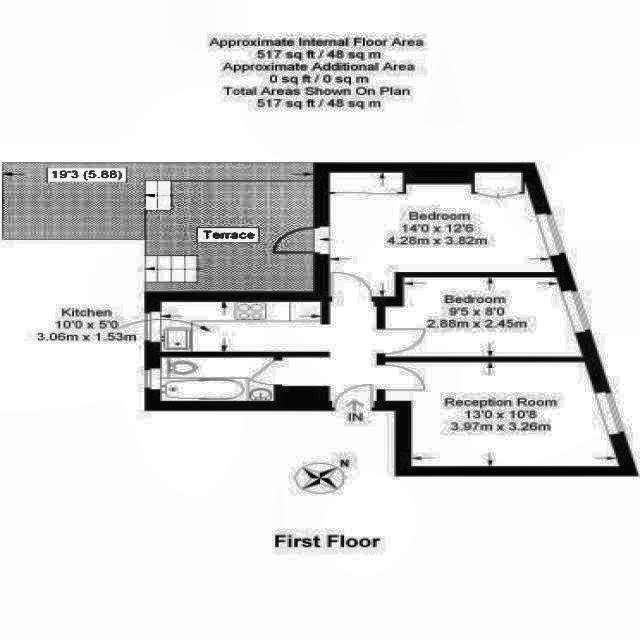room: (328, 172, 555, 297), (386, 362, 619, 466), (146, 182, 314, 291), (385, 276, 582, 356), (161, 302, 320, 351), (161, 357, 274, 401), (328, 302, 376, 401), (282, 358, 318, 386)
